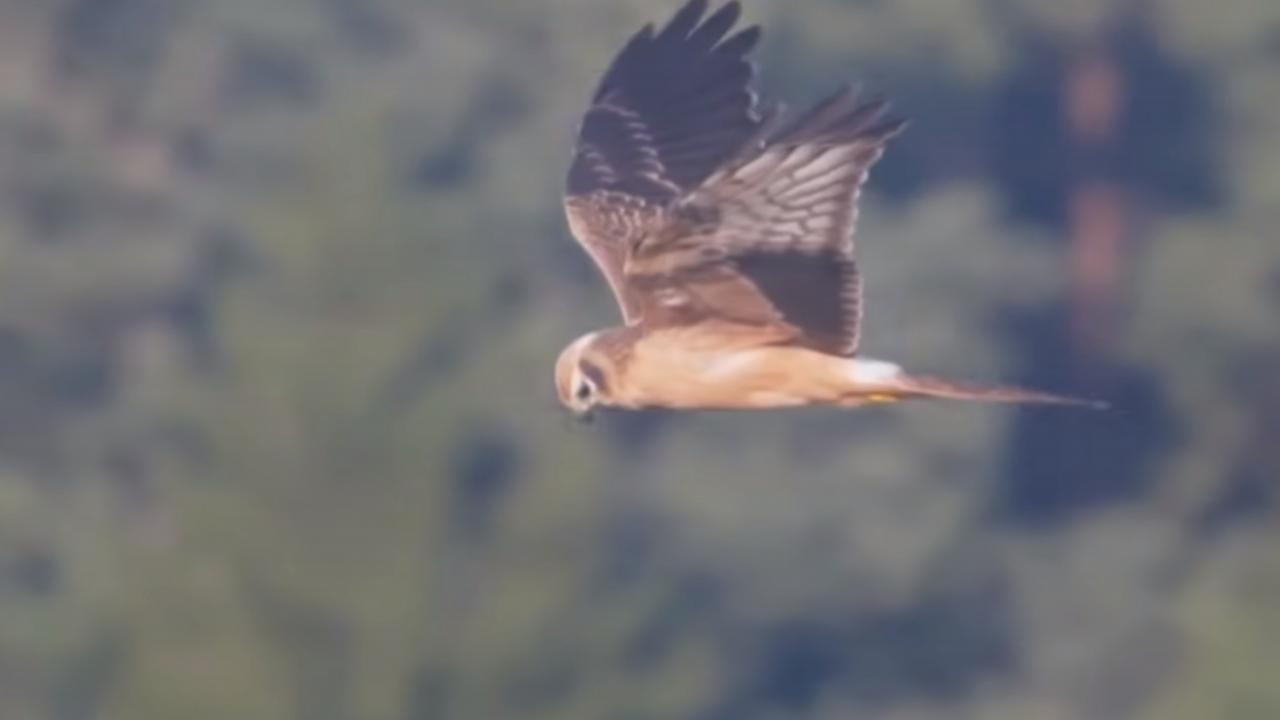Bird: (527, 0, 1135, 445)
